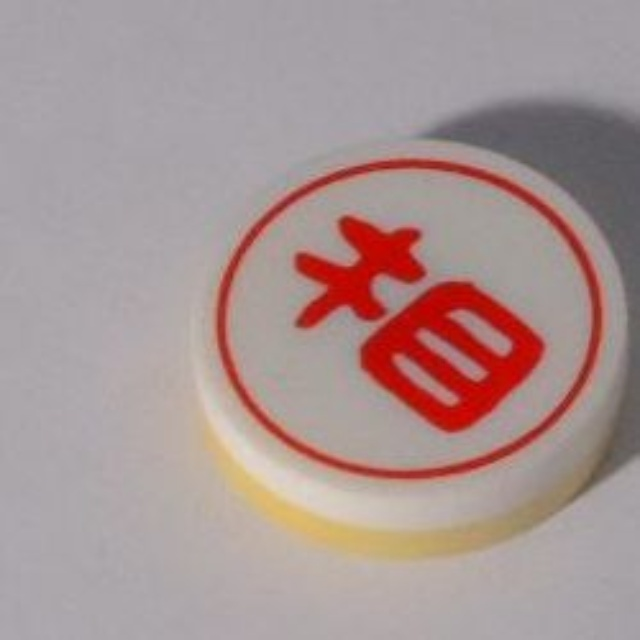red_bo: (186, 132, 633, 552)
